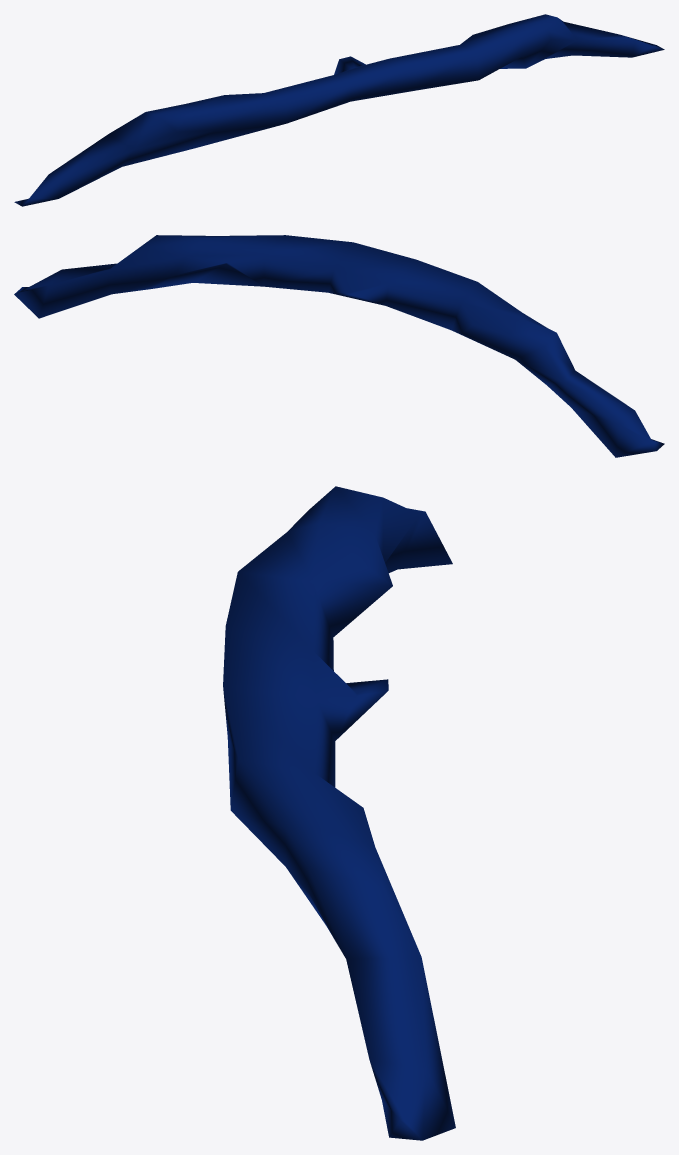
File: mustache.glb
3 renders of one model, top to bottom at view 1: azimuth 30°, elevation 25°; view 2: azimuth 150°, elevation 25°; view 3: azimuth 270°, elevation 25°, orthographic. The views are drawn at different scales.
Visible parts, largest first — view 1: Mesh.007; view 2: Mesh.007; view 3: Mesh.007.
Part boxes in pixels (x1=…): Mesh.007: x1=14, y1=14, x2=664, y2=206; Mesh.007: x1=14, y1=235, x2=664, y2=457; Mesh.007: x1=223, y1=486, x2=455, y2=1140.
Size of the model in its own units: 0.7922 by 0.1133 by 0.1244.
